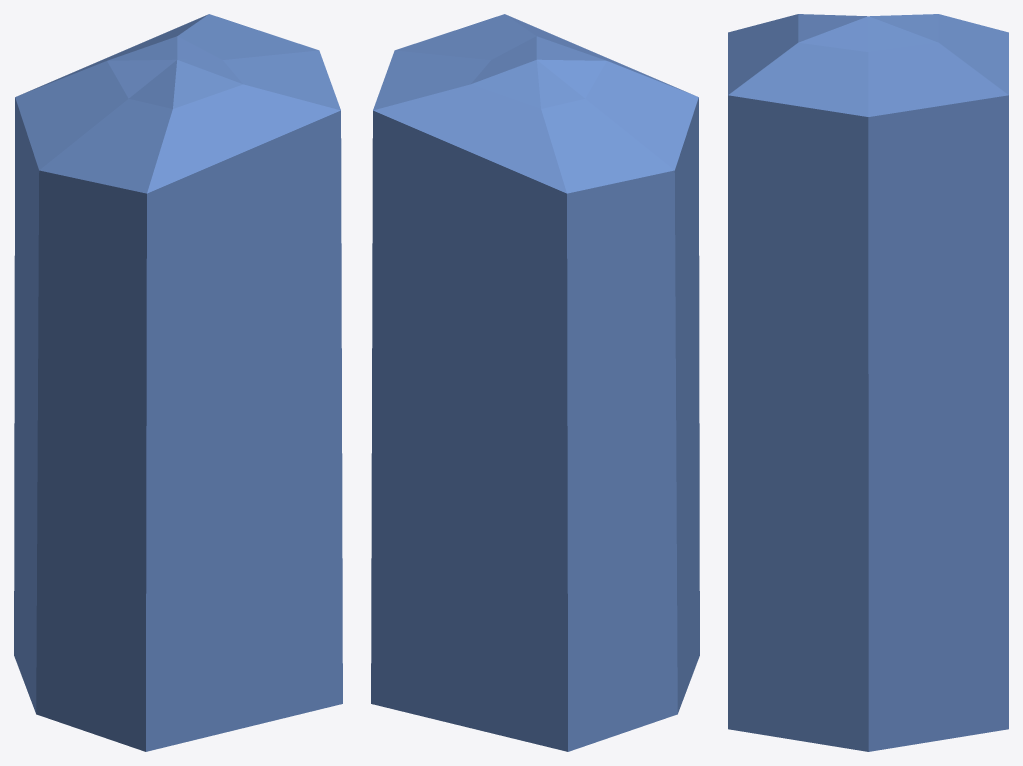
Rendered from CrystalB.FBX.
The picture shows the model from 3 angles, left to right: view 1: azimuth 30°, elevation 25°; view 2: azimuth 150°, elevation 25°; view 3: azimuth 270°, elevation 25°; orthographic projection. The views are drawn at different scales.
Visible parts, largest first — view 1: outB; view 2: outB; view 3: outB.
Part boxes in pixels (left/top/right/bottom): outB: left=14, top=14, right=342, bottom=751; outB: left=371, top=14, right=699, bottom=751; outB: left=728, top=14, right=1008, bottom=751.
Bounding box in the file's own units: 34.04 × 70.92 × 27.32.
